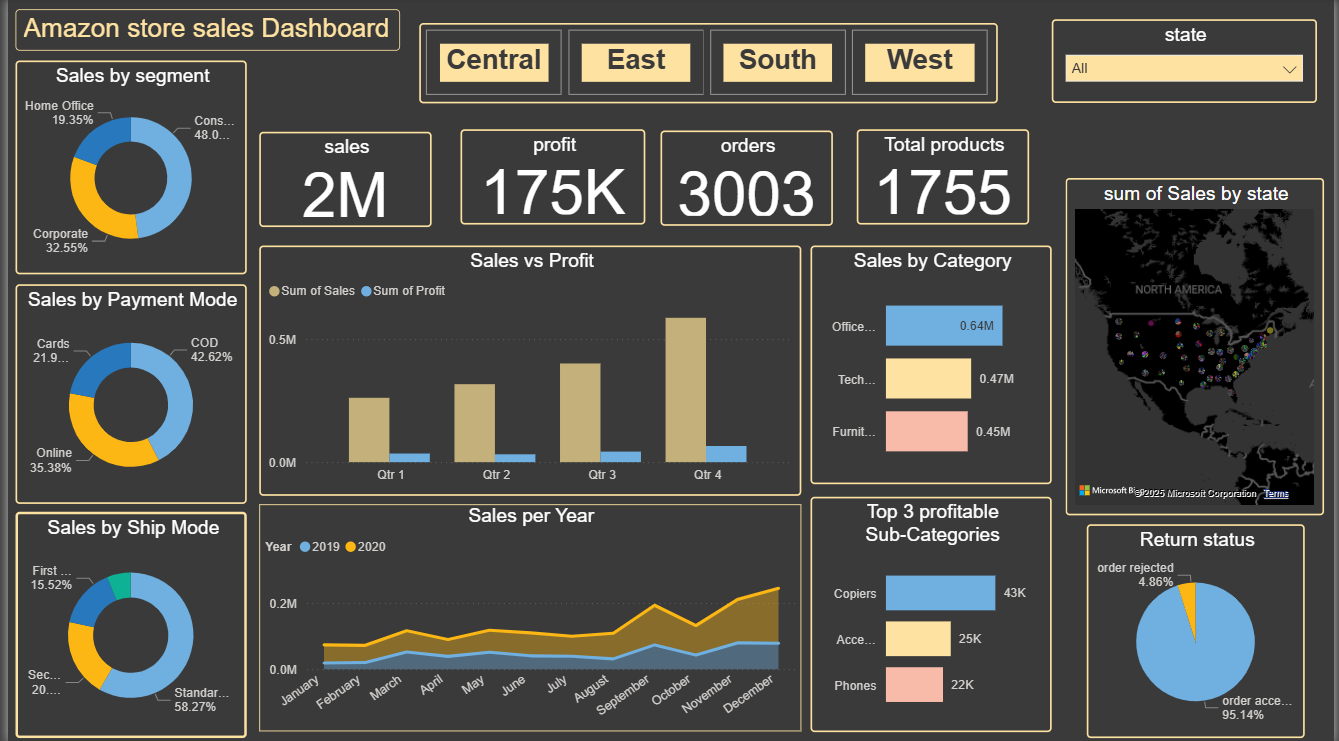

What the dashboard file says about the page in this screenshot:
{"tool":"powerbi","page":{"name":"Page 1","canvas":[1280,720],"ordinal":0},"visuals":[{"type":"donutChart","title":"Sales by segment","fields":{"Category":["Amazon Store Sales Data xlsx - Sheet1 (1).Segment"],"Y":["Sum(Amazon Store Sales Data xlsx - Sheet1 (1).Sales)"]},"box":[7.2,60.3,223.2,206.3],"z":0},{"type":"donutChart","title":"Sales by Ship Mode","fields":{"Y":["Sum(Amazon Store Sales Data xlsx - Sheet1 (1).Sales)"],"Category":["Amazon Store Sales Data xlsx - Sheet1 (1).Ship Mode"]},"box":[7.2,495.8,223.2,218.4],"z":1000},{"type":"donutChart","title":"Sales by Payment Mode","fields":{"Y":["Sum(Amazon Store Sales Data xlsx - Sheet1 (1).Sales)"],"Category":["Amazon Store Sales Data xlsx - Sheet1 (1).Payment Mode"]},"box":[7.2,276.3,223.2,212.3],"z":2000},{"type":"clusteredColumnChart","title":"Sales vs Profit","fields":{"Y":["Sum(Amazon Store Sales Data xlsx - Sheet1 (1).Sales)","Sum(Amazon Store Sales Data xlsx - Sheet1 (1).Profit)"],"Category":["Amazon Store Sales Data xlsx - Sheet1 (1).Order Date.Variation.Date Hierarchy.Quarter"]},"box":[242.5,238.9,523.6,241.3],"z":3000},{"type":"stackedAreaChart","title":"Sales per Year","fields":{"Y":["Sum(Amazon Store Sales Data xlsx - Sheet1 (1).Sales)"],"Category":["Amazon Store Sales Data xlsx - Sheet1 (1).Order Date.Variation.Date Hierarchy.Month"],"Series":["Amazon Store Sales Data xlsx - Sheet1 (1).Order Date.Variation.Date Hierarchy.Year"]},"box":[242.5,488.6,523.6,219.6],"z":4000},{"type":"barChart","title":"Sales by Category","fields":{"Category":["Amazon Store Sales Data xlsx - Sheet1 (1).Category"],"Y":["Sum(Amazon Store Sales Data xlsx - Sheet1 (1).Sales)"]},"box":[774.5,238.9,232.8,230.4],"z":5000},{"type":"barChart","title":"Top 3 profitable Sub-Categories","fields":{"Category":["Amazon Store Sales Data xlsx - Sheet1 (1).Sub-Category"],"Y":["Sum(Amazon Store Sales Data xlsx - Sheet1 (1).Profit)"]},"box":[774.5,481.4,232.8,226.8],"z":6000},{"type":"pieChart","title":"Return status","fields":{"Y":["CountNonNull(Amazon Store Sales Data xlsx - Sheet1 (1).Order ID)"],"Category":["Amazon Store Sales Data xlsx - Sheet1 (1).return status"]},"box":[1040.6,507.5,210.3,206.7],"z":7000},{"type":"map","title":"sum of Sales by state","fields":{"Category":["Amazon Store Sales Data xlsx - Sheet1 (1).State"],"Series":["Amazon Store Sales Data xlsx - Sheet1 (1).Sales"]},"box":[1021.1,173.6,249.5,325.3],"z":8000},{"type":"textbox","title":"Amazon store sales Dashboard","box":[7.2,10.9,371.6,39.8],"z":9000},{"type":"card","title":"sales","fields":{"Values":["Sum(Amazon Store Sales Data xlsx - Sheet1 (1).Sales)"]},"box":[242.1,129.6,166.3,91.7],"z":10000},{"type":"card","title":"Total products","fields":{"Values":["Count(Amazon Store Sales Data xlsx - Sheet1 (1).Product ID)"]},"box":[819.3,127.2,166.3,91.7],"z":11000},{"type":"card","title":"profit","fields":{"Values":["Sum(Amazon Store Sales Data xlsx - Sheet1 (1).Profit)"]},"box":[436.6,127.2,178.5,91.7],"z":12000},{"type":"card","title":"orders","fields":{"Values":["Count(Amazon Store Sales Data xlsx - Sheet1 (1).Order ID)"]},"box":[629.8,128.4,166.3,91.7],"z":13000},{"type":"slicer","title":"state","fields":{"Values":["Amazon Store Sales Data xlsx - Sheet1 (1).State"]},"box":[1007.4,20.5,255.8,80.8],"z":14000},{"type":"advancedSlicerVisual","fields":{"Values":["Amazon Store Sales Data xlsx - Sheet1 (1).Region"]},"box":[396.9,24.1,558.6,77.2],"z":15000}]}

Visuals, with their boxes in screenshot pixels (x1, y1, x2, y2), scaled from the page's 1280x720 canvas onto the 1339x741 screenshot:
"Sales by segment" donutChart: (8, 62, 241, 274)
"Sales by Ship Mode" donutChart: (8, 510, 241, 735)
"Sales by Payment Mode" donutChart: (8, 284, 241, 503)
"Sales vs Profit" clusteredColumnChart: (254, 246, 801, 494)
"Sales per Year" stackedAreaChart: (254, 503, 801, 729)
"Sales by Category" barChart: (810, 246, 1054, 483)
"Top 3 profitable Sub-Categories" barChart: (810, 495, 1054, 729)
"Return status" pieChart: (1089, 522, 1309, 735)
"sum of Sales by state" map: (1068, 179, 1329, 513)
"Amazon store sales Dashboard" textbox: (8, 11, 396, 52)
"sales" card: (253, 133, 427, 228)
"Total products" card: (857, 131, 1031, 225)
"profit" card: (457, 131, 643, 225)
"orders" card: (659, 132, 833, 227)
"state" slicer: (1054, 21, 1321, 104)
advancedSlicerVisual - Amazon Store Sales Data xlsx - Sheet1 (1).Region: (415, 25, 1000, 104)
